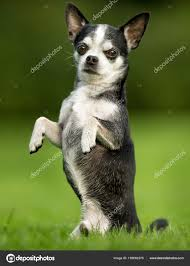chihuahua: (16, 3, 172, 243)
